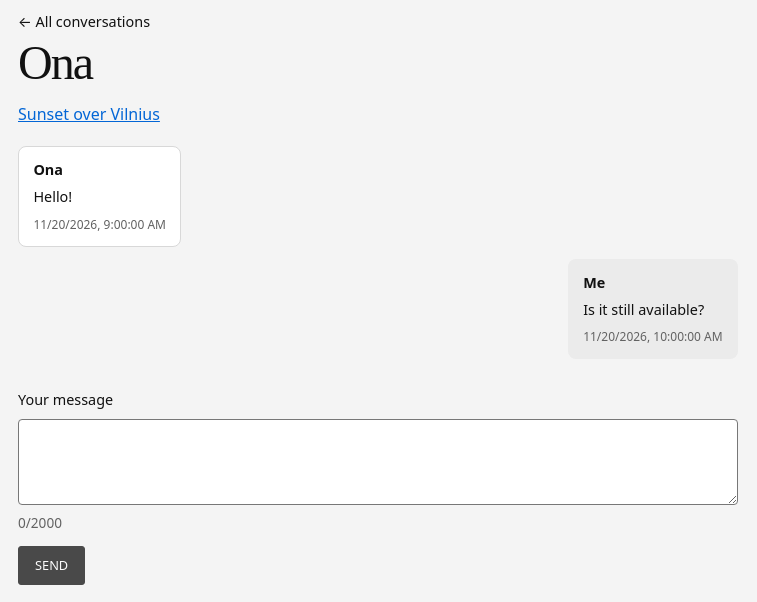
Test: conversation page › sends the trimmed message, clears the field and reloads the conversation
Type "  Can I pick it up on Friday?  " into the text box labelled "Your message" at (378, 462), box x1=18 y1=419 x2=738 y2=505
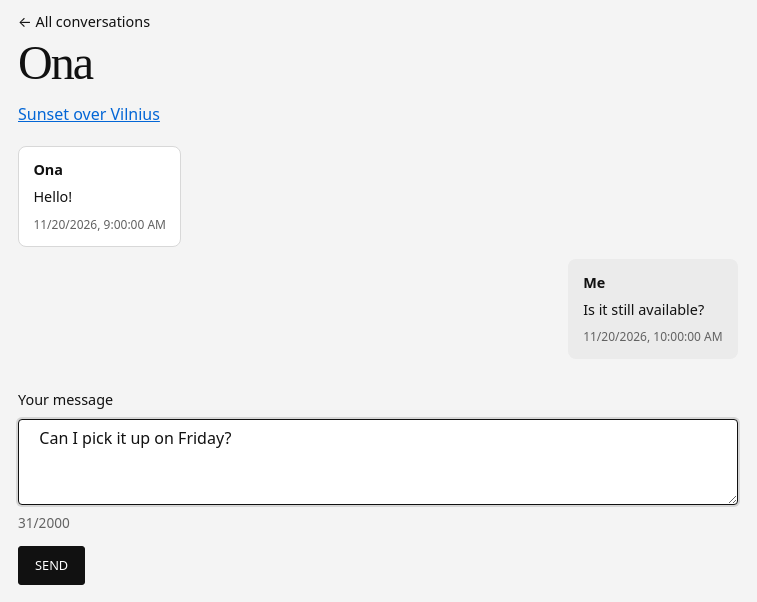
Click the button "Send" at (52, 565), box x1=18 y1=546 x2=85 y2=585
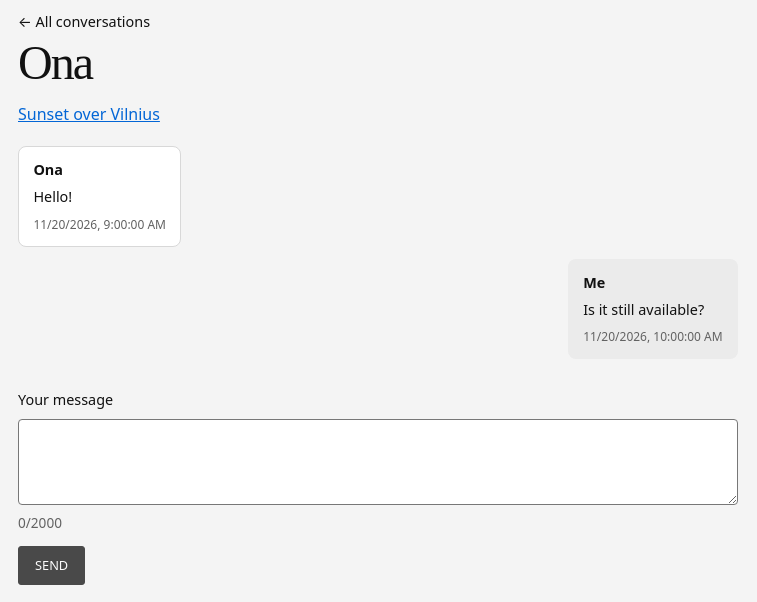
Check: the text box labelled "Your message" is empty, box x1=18 y1=419 x2=738 y2=505
